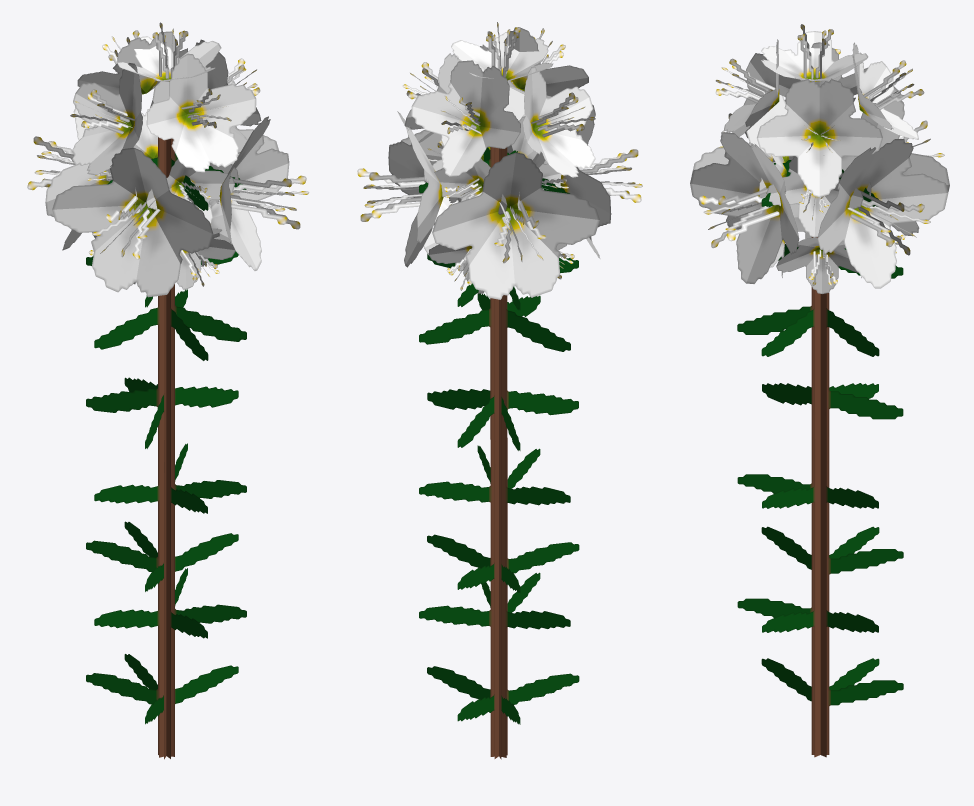
File: marsh_labrador_tea.fbx
3 renders of one model, left to right at view 1: azimuth 30°, elevation 25°; view 2: azimuth 150°, elevation 25°; view 3: azimuth 270°, elevation 25°, orthographic.
Parts seen in each view (by area): view 1: marsh_labrador_tea; view 2: marsh_labrador_tea; view 3: marsh_labrador_tea.
Part boxes in pixels (bbox=[...]): marsh_labrador_tea: bbox=[27, 22, 309, 759]; marsh_labrador_tea: bbox=[357, 22, 642, 759]; marsh_labrador_tea: bbox=[690, 24, 949, 757].
Size of the model in its own units: 160 by 458 by 160.
1 material, 1 textured.
